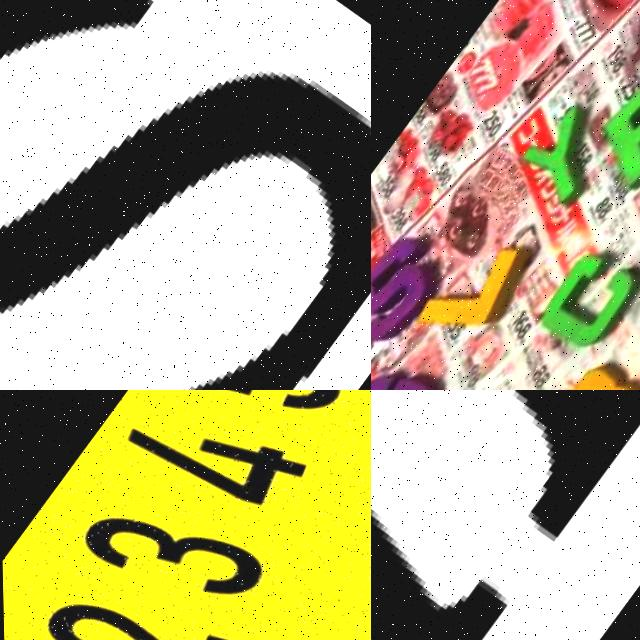2: (3, 511, 272, 640)
3: (34, 423, 302, 640)
4: (76, 390, 343, 602)
5: (138, 390, 371, 501)
C: (529, 239, 640, 366)
F: (588, 66, 640, 191)
G: (371, 344, 450, 390)
L: (414, 218, 542, 360)
N: (371, 390, 640, 640)
R: (535, 358, 640, 390)
S: (0, 0, 371, 390), (371, 226, 446, 350)
Y: (508, 98, 616, 214)
